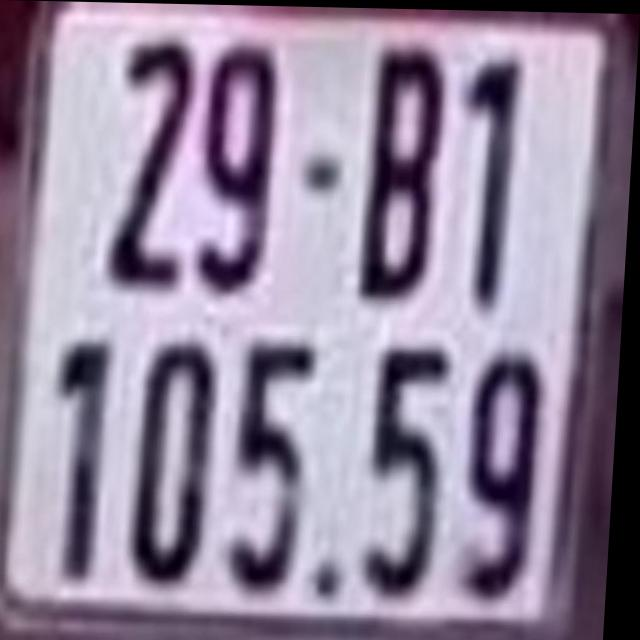0: (139, 340, 221, 582)
1: (455, 33, 519, 298), (51, 334, 114, 576)
2: (112, 34, 197, 286)
5: (371, 337, 461, 605), (238, 335, 314, 591)
9: (465, 341, 551, 601), (199, 43, 285, 281)
B: (366, 44, 445, 293)
